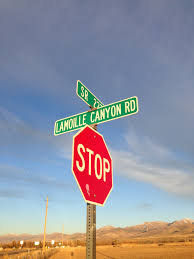stop: (69, 122, 117, 207)
